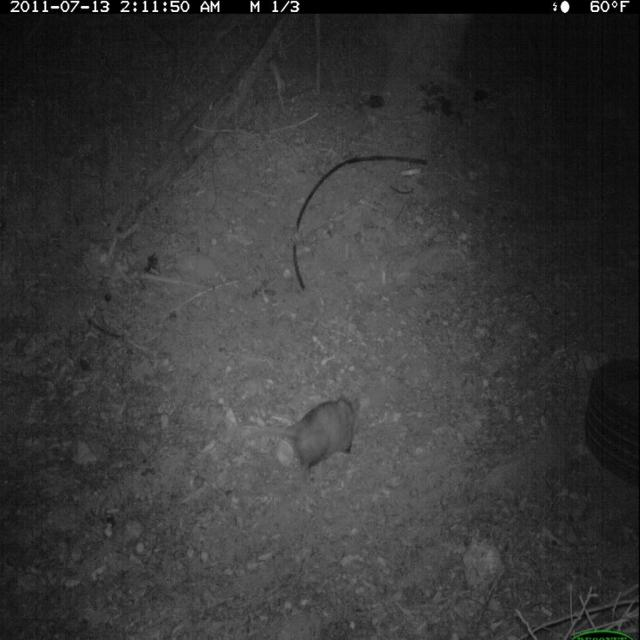opossum: (260, 388, 364, 479)
